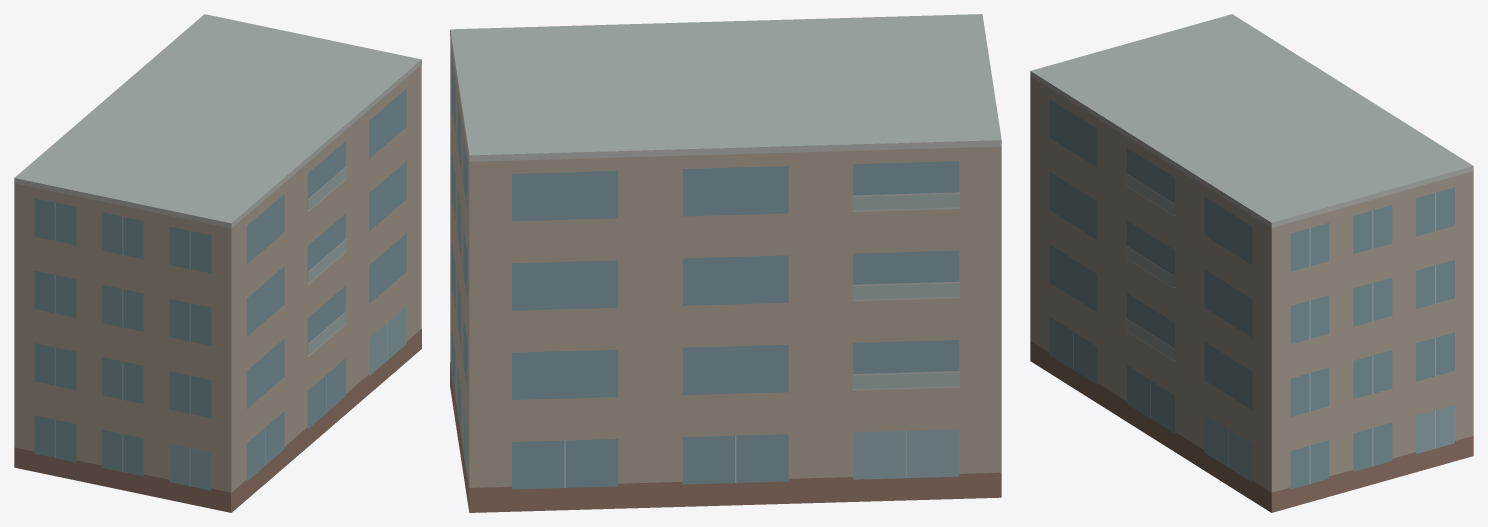
The model's file is survey-upis-32982171.glb.
The picture shows the model from 3 angles, left to right: view 1: azimuth 30°, elevation 25°; view 2: azimuth 150°, elevation 25°; view 3: azimuth 270°, elevation 25°; orthographic projection. The views are drawn at different scales.
Visible parts, largest first — view 1: survey-upis-32982171.tmp; view 2: survey-upis-32982171.tmp; view 3: survey-upis-32982171.tmp.
Boxes of the visible parts, box(x1,y1,x2,y2) form: survey-upis-32982171.tmp: box(14, 14, 421, 512); survey-upis-32982171.tmp: box(450, 14, 1001, 512); survey-upis-32982171.tmp: box(1030, 14, 1473, 512).
Size of the model in its own units: 21 by 13.6 by 18.84.
